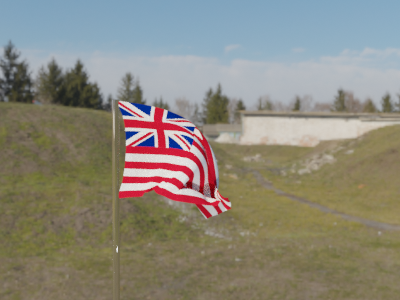Malaysia flag: (112, 98, 237, 221)
